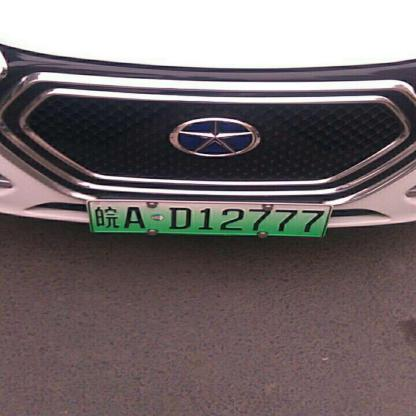lp: (88, 200, 331, 236)
